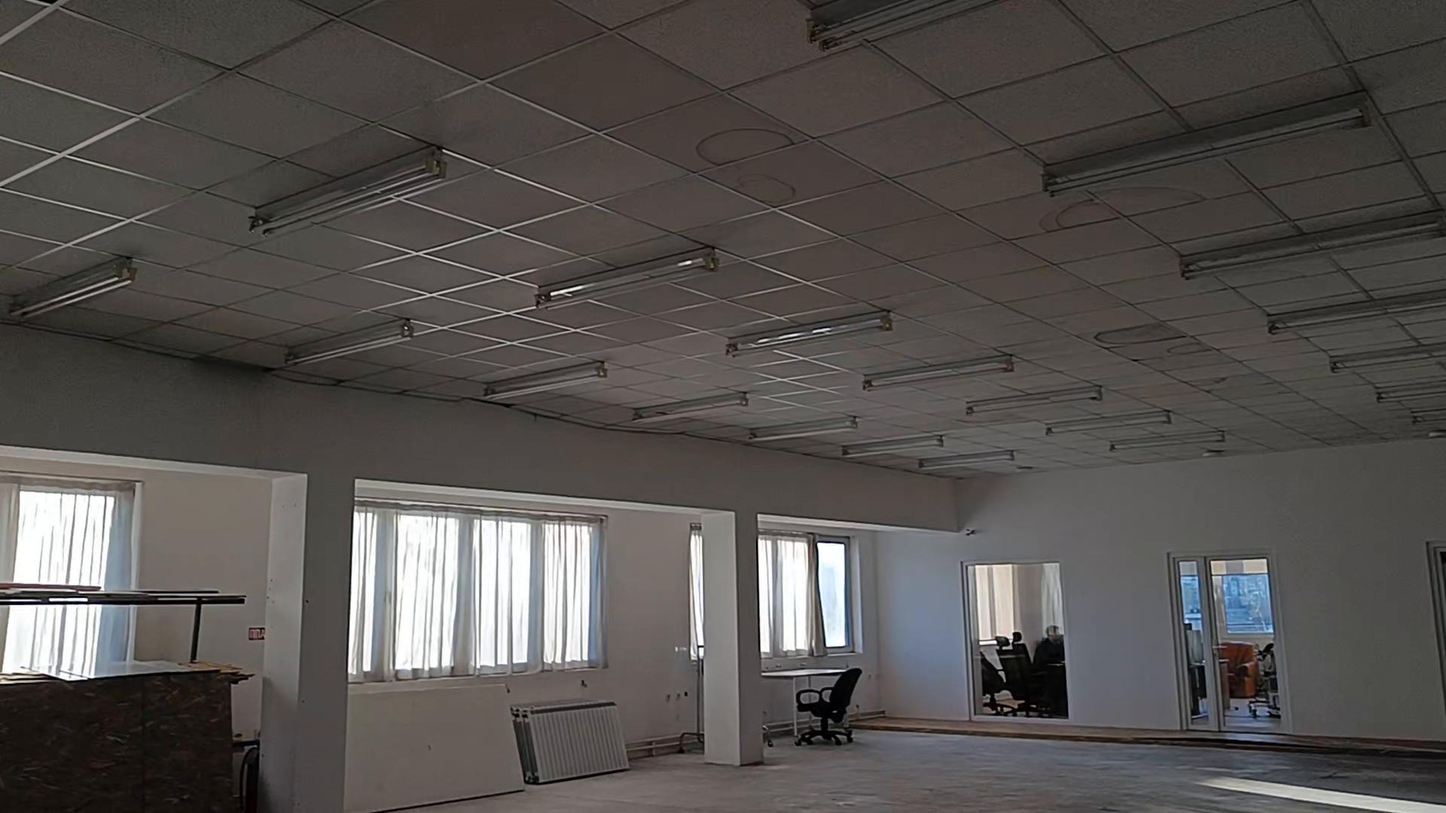ceiling: (0, 0, 1445, 474)
floor: (407, 718, 1445, 812)
wall: (1, 335, 954, 807), (882, 450, 1445, 734), (611, 523, 695, 744), (700, 511, 764, 766)
